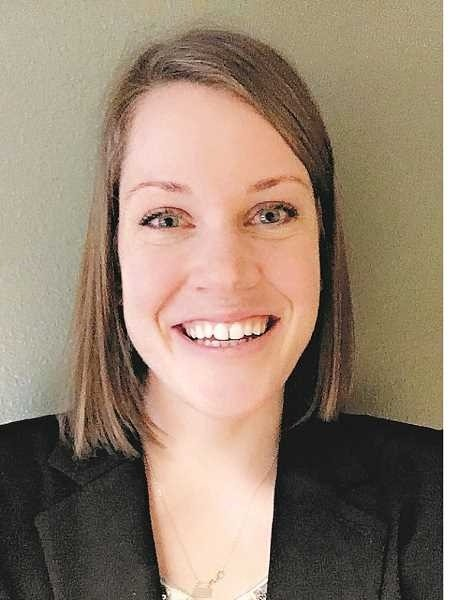face_no_mask: (75, 29, 354, 436)
